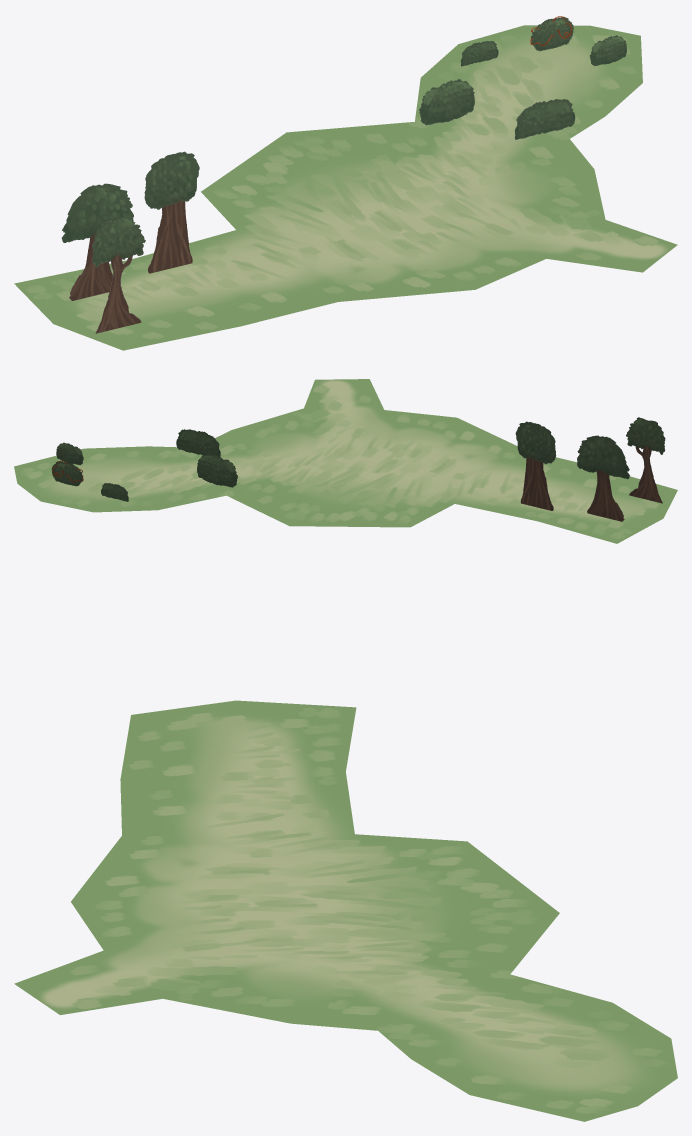
File: forest v2.glb
The picture shows the model from 3 angles, top to bottom: view 1: azimuth 30°, elevation 25°; view 2: azimuth 150°, elevation 25°; view 3: azimuth 270°, elevation 25°; orthographic projection. The views are drawn at different scales.
Parts seen in each view (by area): view 1: ground, tree 1, tree 2, tree 3, bush 4, bush 3, bush wiring, bush 1, bush 2; view 2: ground, tree 2, tree 1, tree 3, bush 4, bush 3, bush wiring, bush 1, bush 2; view 3: ground.
Part boxes in pixels (bbox=[...]): ground: bbox=[14, 25, 677, 350]; tree 1: bbox=[144, 151, 199, 273]; tree 2: bbox=[61, 183, 133, 300]; tree 3: bbox=[92, 216, 145, 333]; bush 4: bbox=[419, 79, 474, 125]; bush 3: bbox=[514, 99, 575, 139]; bush wiring: bbox=[530, 16, 573, 51]; bush 1: bbox=[589, 35, 626, 66]; bush 2: bbox=[460, 41, 498, 66]; ground: bbox=[14, 379, 677, 543]; tree 2: bbox=[577, 435, 629, 521]; tree 1: bbox=[515, 421, 556, 510]; tree 3: bbox=[626, 417, 665, 503]; bush 4: bbox=[197, 453, 237, 487]; bush 3: bbox=[176, 429, 220, 456]; bush wiring: bbox=[51, 460, 83, 486]; bush 1: bbox=[56, 442, 83, 465]; bush 2: bbox=[101, 483, 128, 501]; ground: bbox=[14, 700, 677, 1121].
Bounding box in the file's own units: 64.51 × 9.73 × 42.96.
2 materials, 2 textured.
